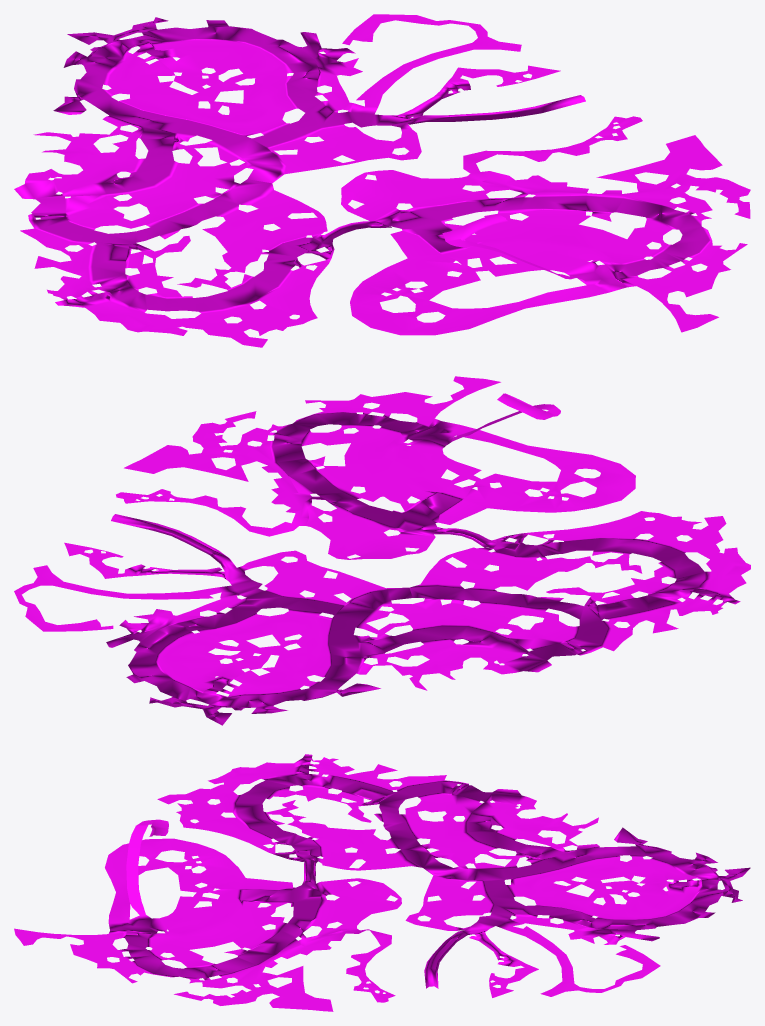
The model's file is ohziverse_navmesh.glb.
3 renders of one model, top to bottom at view 1: azimuth 30°, elevation 25°; view 2: azimuth 150°, elevation 25°; view 3: azimuth 270°, elevation 25°, orthographic. The views are drawn at different scales.
Visible parts, largest first — view 1: camino_personaje; view 2: camino_personaje; view 3: camino_personaje.
Part boxes in pixels (x1=…): camino_personaje: x1=14, y1=14, x2=750, y2=347; camino_personaje: x1=14, y1=376, x2=750, y2=725; camino_personaje: x1=14, y1=754, x2=750, y2=1011.
Size of the model in its own units: 45.25 by 4.85 by 55.
